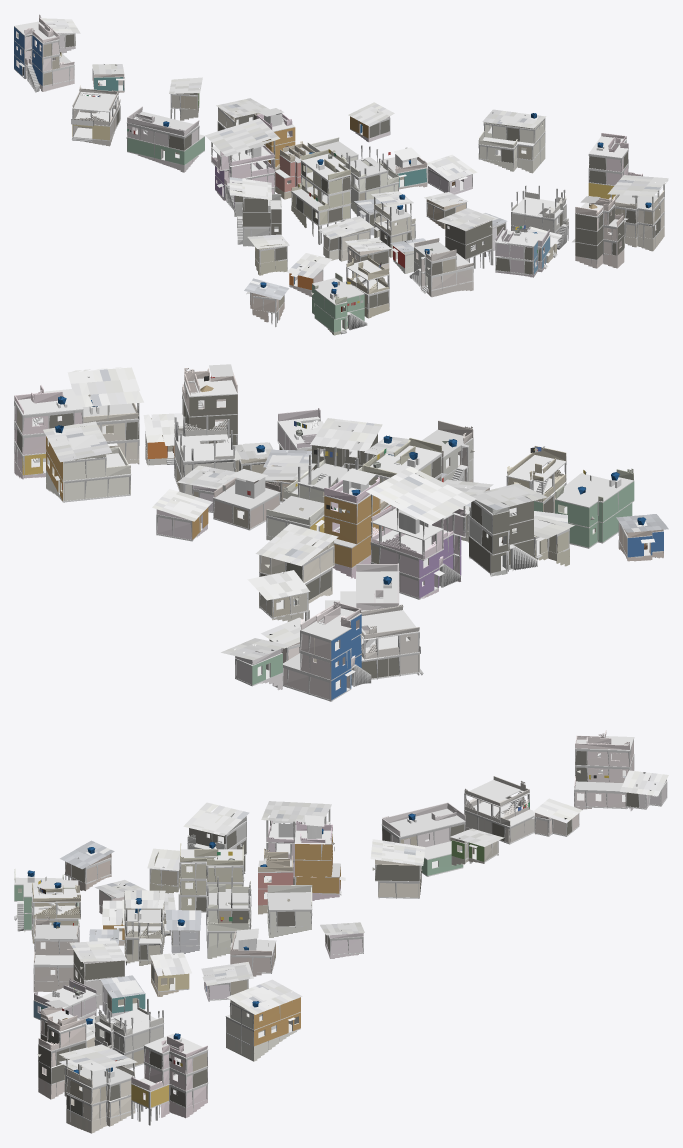
3 views of the same model, one above another, from view 1: azimuth 30°, elevation 25°; view 2: azimuth 150°, elevation 25°; view 3: azimuth 270°, elevation 25° (orthographic). The views are drawn at different scales.
Visible parts, largest first — view 1: T_29_25; view 2: T_29_25; view 3: T_29_25.
Part boxes in pixels (x1,y1,x2,y2): T_29_25: (14,14,668,335); T_29_25: (14,364,668,701); T_29_25: (14,730,668,1133).
Size of the model in its own units: 89.09 by 29.97 by 103.
